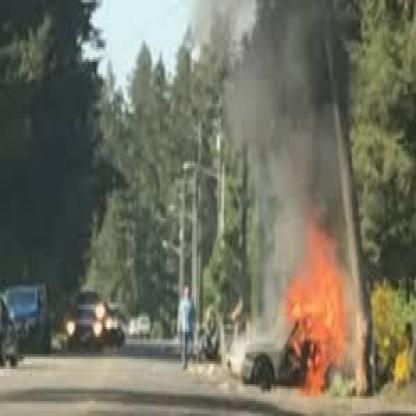fire: (250, 212, 374, 386)
smoke: (220, 2, 359, 265)
